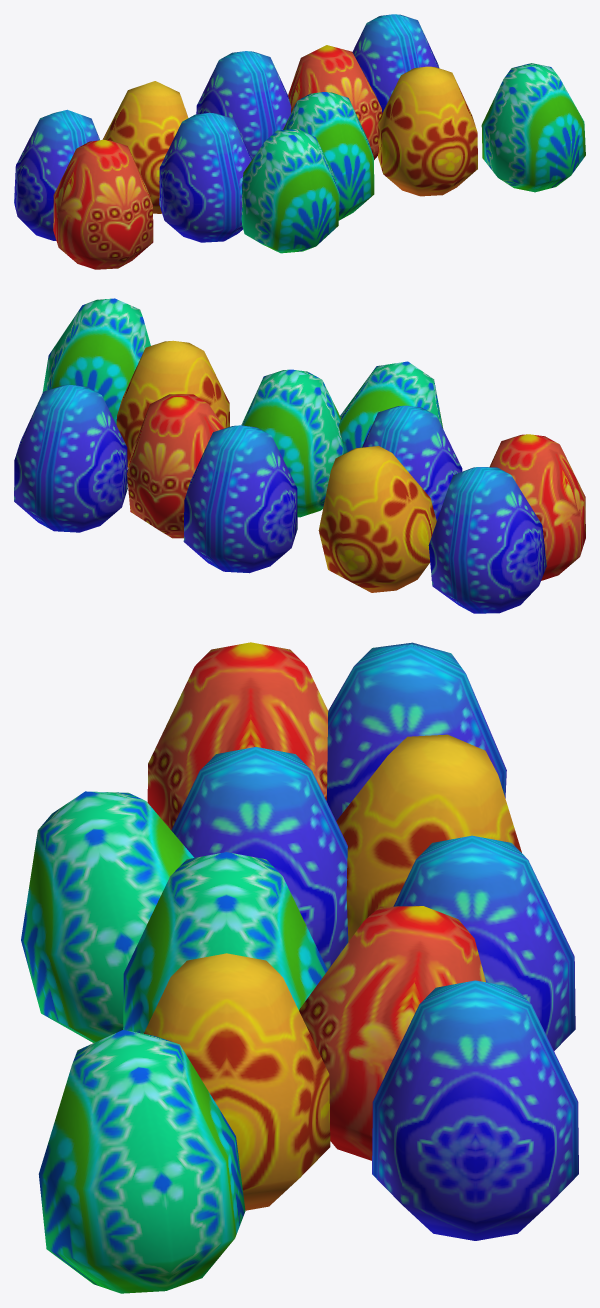
Rendered from Egg_Group.FBX.
3 views of the same model, one above another, from view 1: azimuth 30°, elevation 25°; view 2: azimuth 150°, elevation 25°; view 3: azimuth 270°, elevation 25° (orthographic). The views are drawn at different scales.
Parts seen in each view (by area): view 1: Egg_Group; view 2: Egg_Group; view 3: Egg_Group.
Boxes of the visible parts, x1,y1,x2,y2 form: Egg_Group: (14, 14, 585, 269); Egg_Group: (14, 298, 585, 613); Egg_Group: (21, 642, 578, 1293).
Size of the model in its own units: 2.5 by 0.5918 by 1.22.
